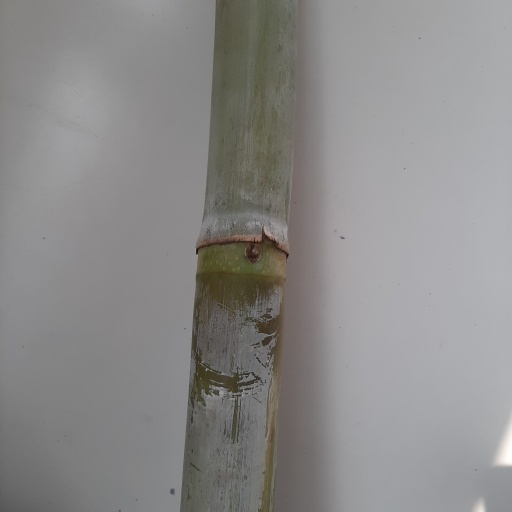Bud: (246, 244, 262, 266)
